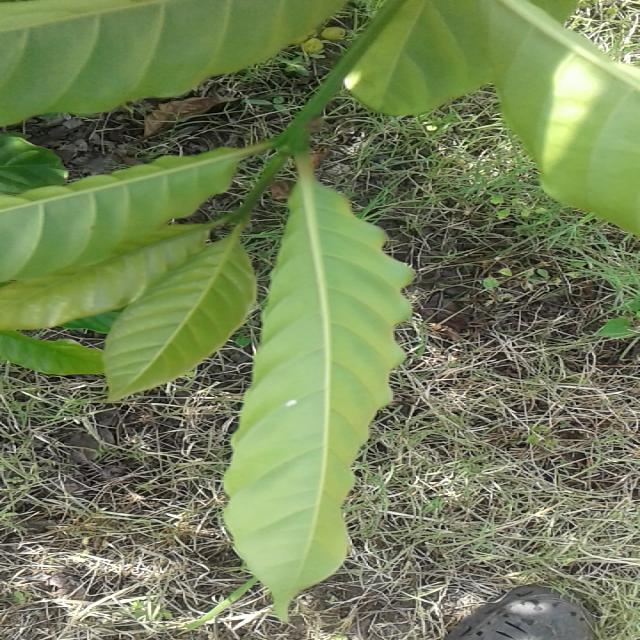Sanas: (221, 153, 415, 626)
